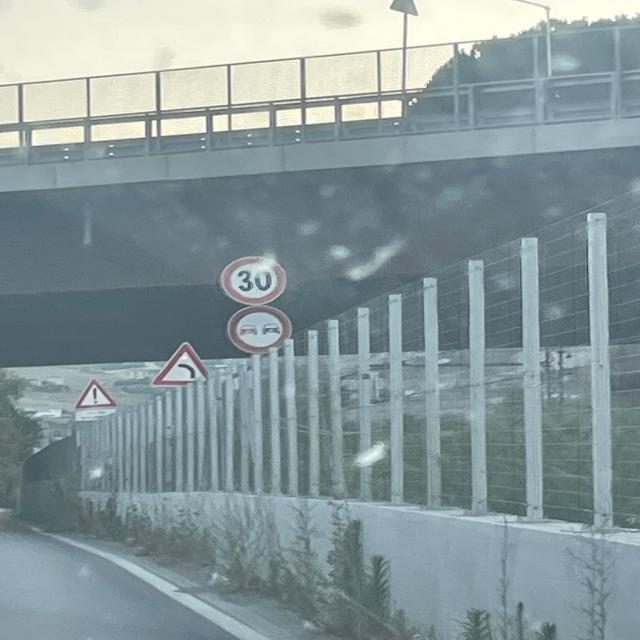forb_overtake: (225, 307, 294, 356)
forb_speed_over_30: (220, 256, 290, 306)
warn_left_curve: (151, 341, 213, 386)
